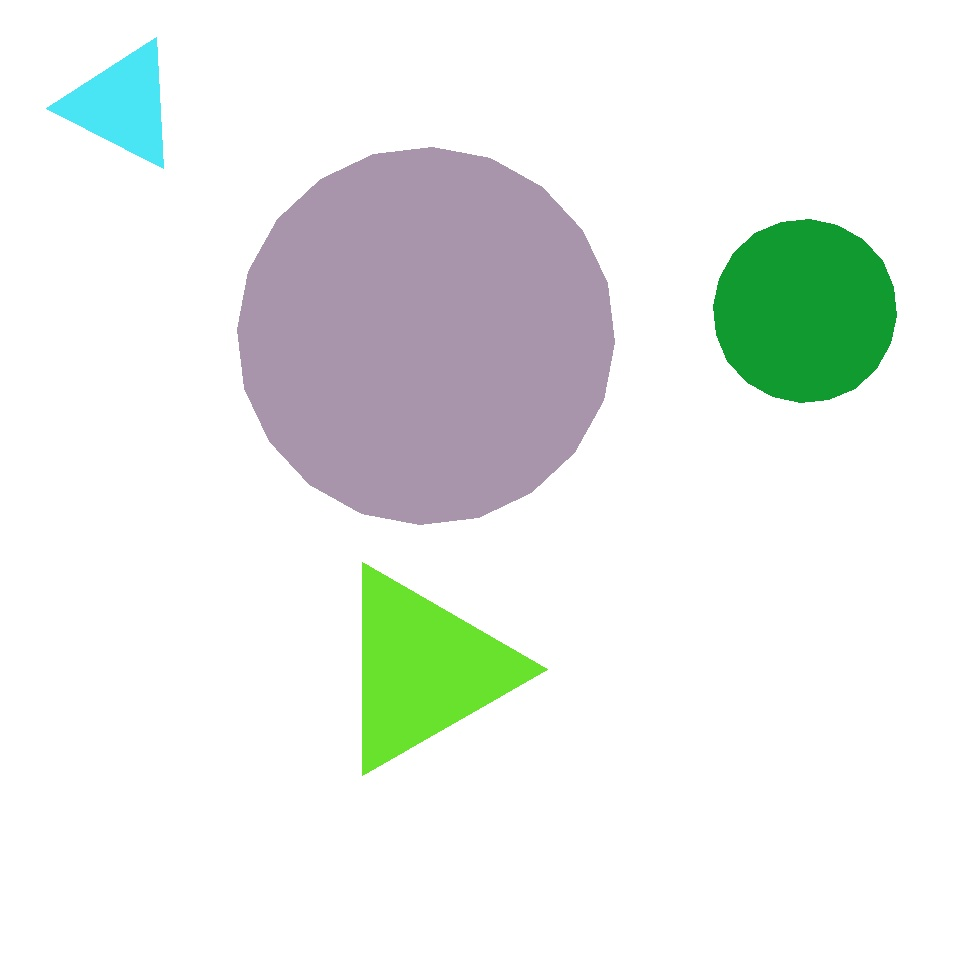circle: (331, 562, 516, 776), (63, 40, 180, 170)
square: (446, 376, 736, 664)
triangle: (237, 147, 614, 524), (506, 586, 858, 938), (372, 510, 646, 783), (458, 370, 682, 592), (714, 220, 896, 403), (783, 696, 946, 860), (132, 188, 244, 298)
